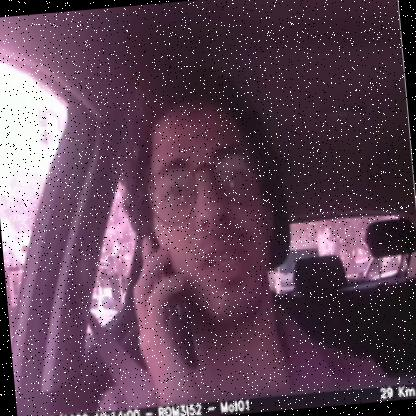phone: (137, 224, 206, 376)
